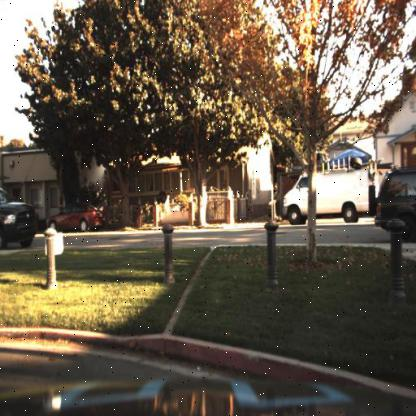car: (282, 156, 370, 230), (374, 166, 416, 244), (0, 180, 36, 250), (42, 199, 107, 233)
